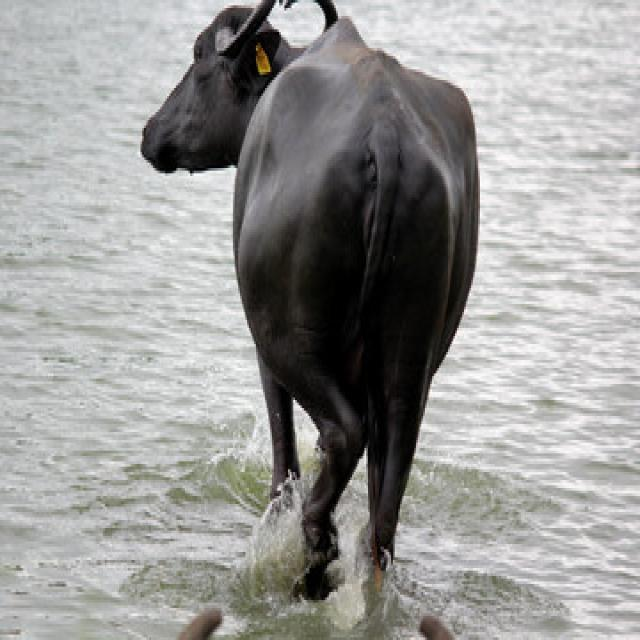Buffalo: (139, 0, 482, 600)
